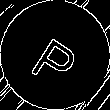P_NE: (26, 24, 84, 86)
